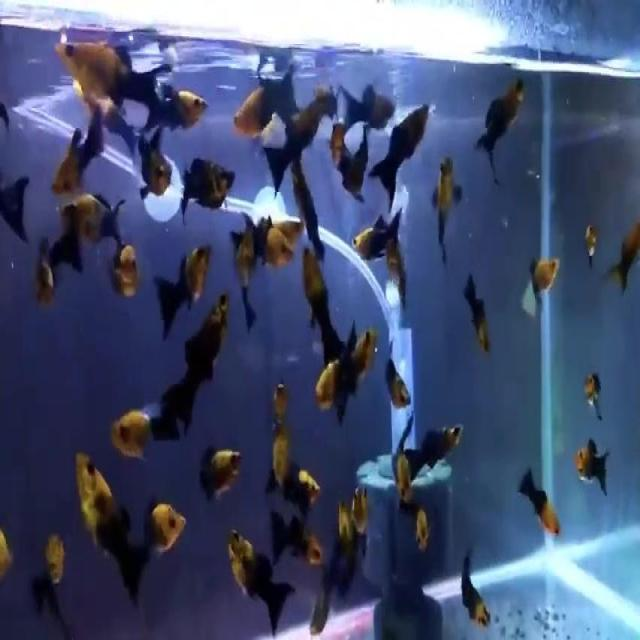PlatyFish: (73, 438, 155, 634), (48, 33, 179, 134), (223, 516, 299, 640), (150, 232, 216, 348), (346, 200, 410, 276)
